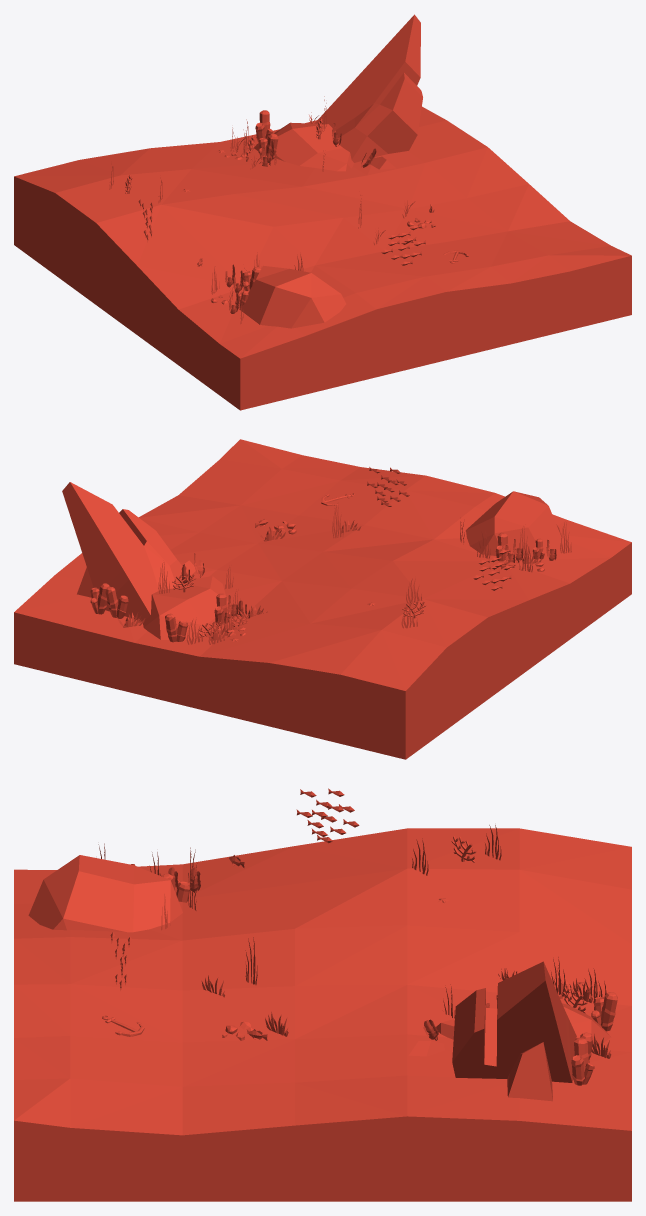
File: polyperfect-sea-base.fbx
3 renders of one model, top to bottom at view 1: azimuth 30°, elevation 25°; view 2: azimuth 150°, elevation 25°; view 3: azimuth 270°, elevation 25°, orthographic. The views are drawn at different scales.
Visible parts, largest first — view 1: polyperfect-sea-base; view 2: polyperfect-sea-base; view 3: polyperfect-sea-base.
Part boxes in pixels (<box>): polyperfect-sea-base: <box>14,14,631,410</box>; polyperfect-sea-base: <box>14,439,631,759</box>; polyperfect-sea-base: <box>14,788,631,1201</box>.
Size of the model in its own units: 19.13 by 7.67 by 19.13.
